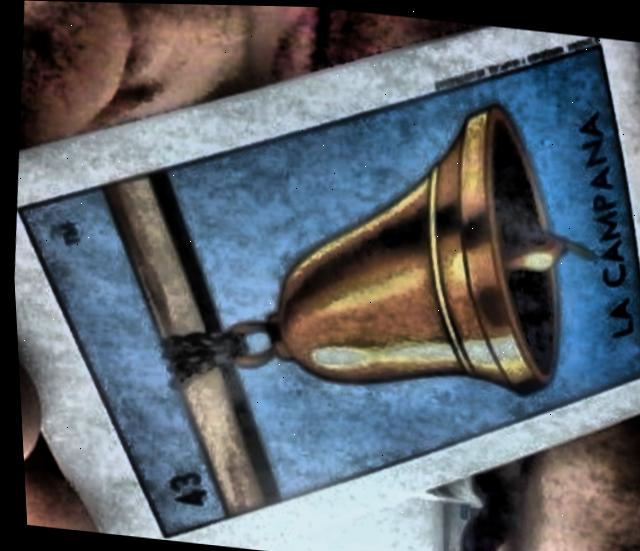La Campana: (15, 41, 640, 533)
